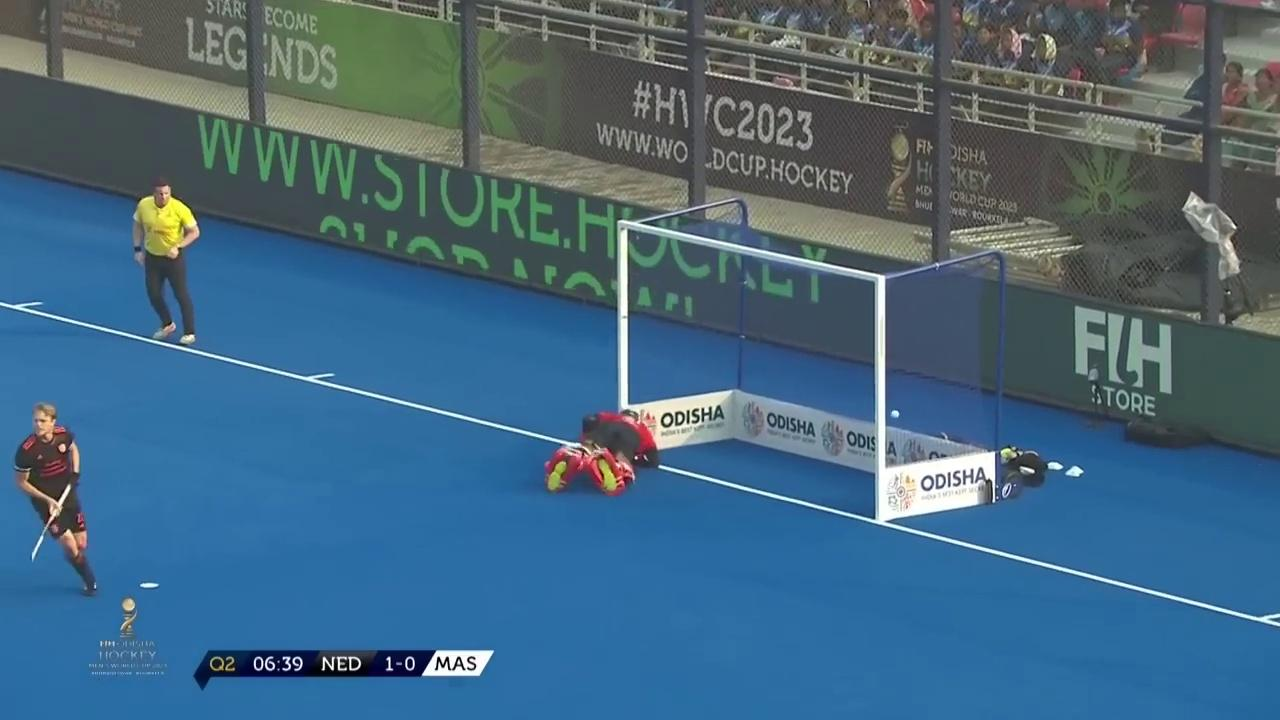ball: (887, 406, 906, 424)
